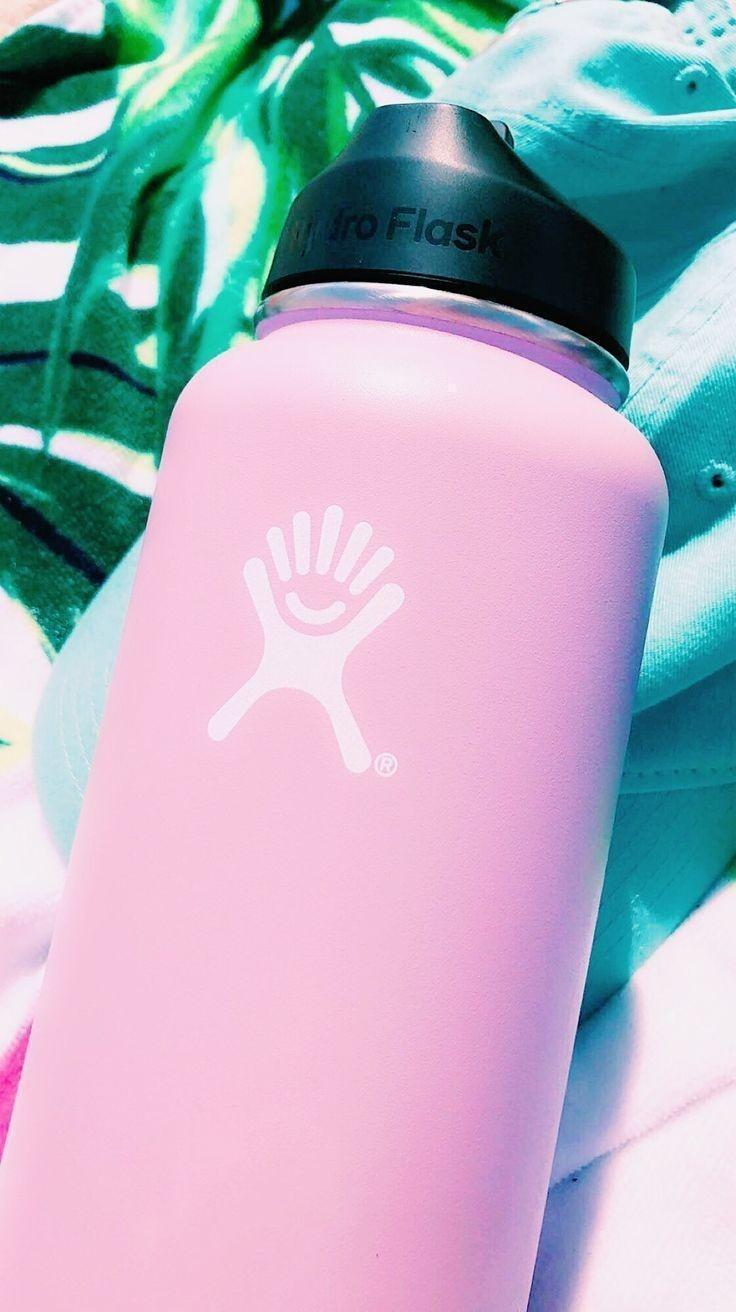gym bottle: (1, 98, 669, 1311)
